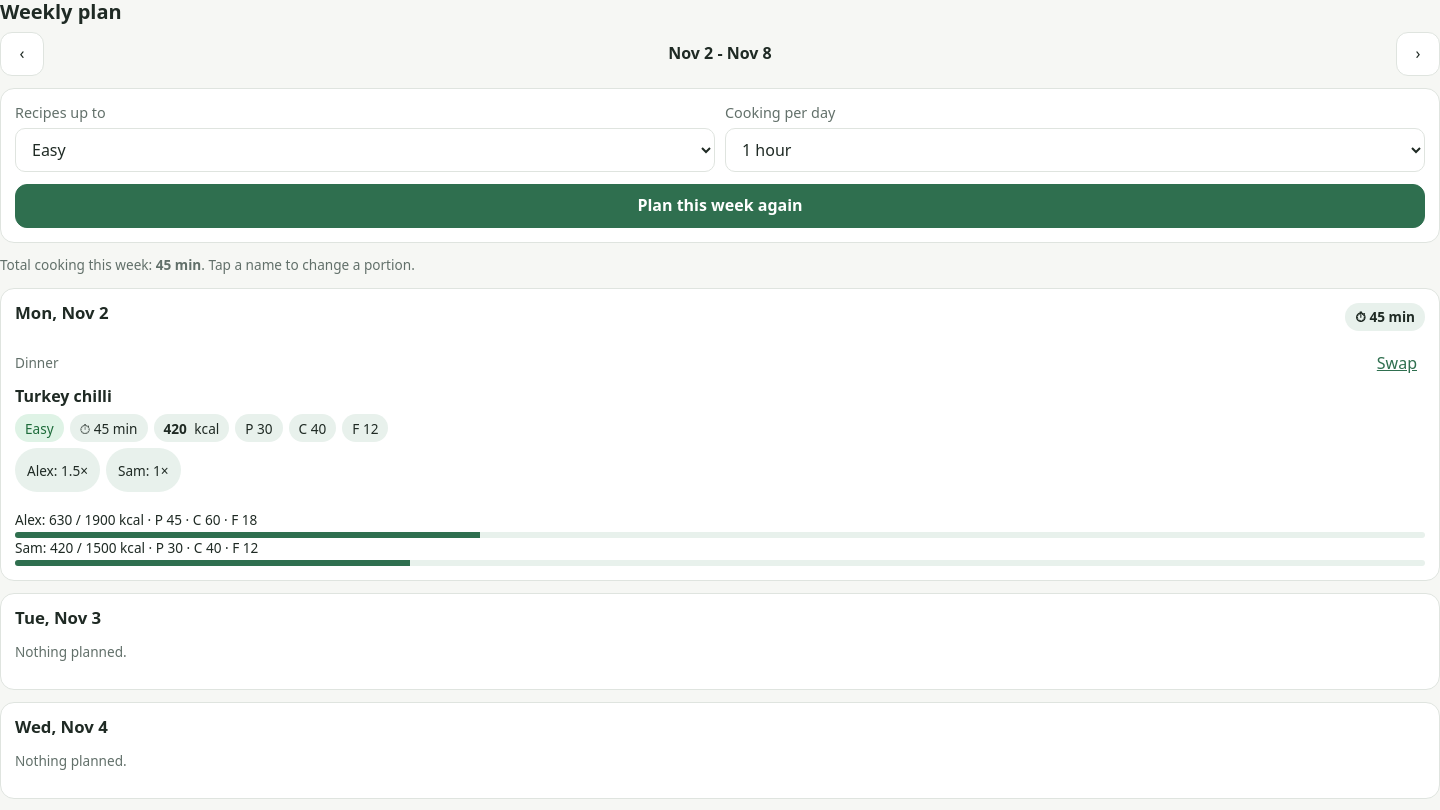
Test case: Plan › changes a portion through the sheet
The width and height of the screenshot is (1440, 810).
Click the button with aria-label "Alex: 1.5 servings" at (58, 470), box [15,448,100,492]
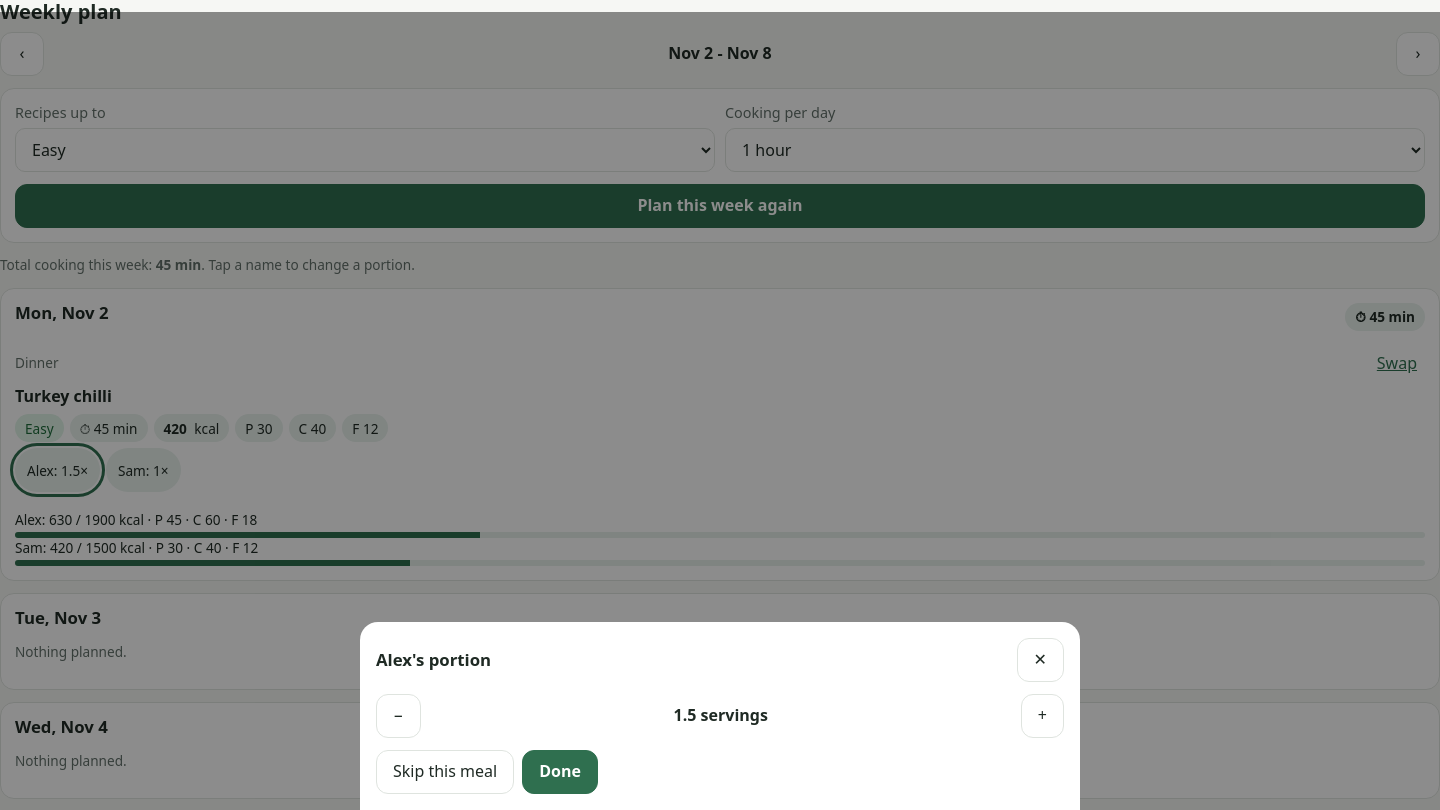
Click the button named "Bigger portion" at (1042, 716), box [1021,694,1064,738]
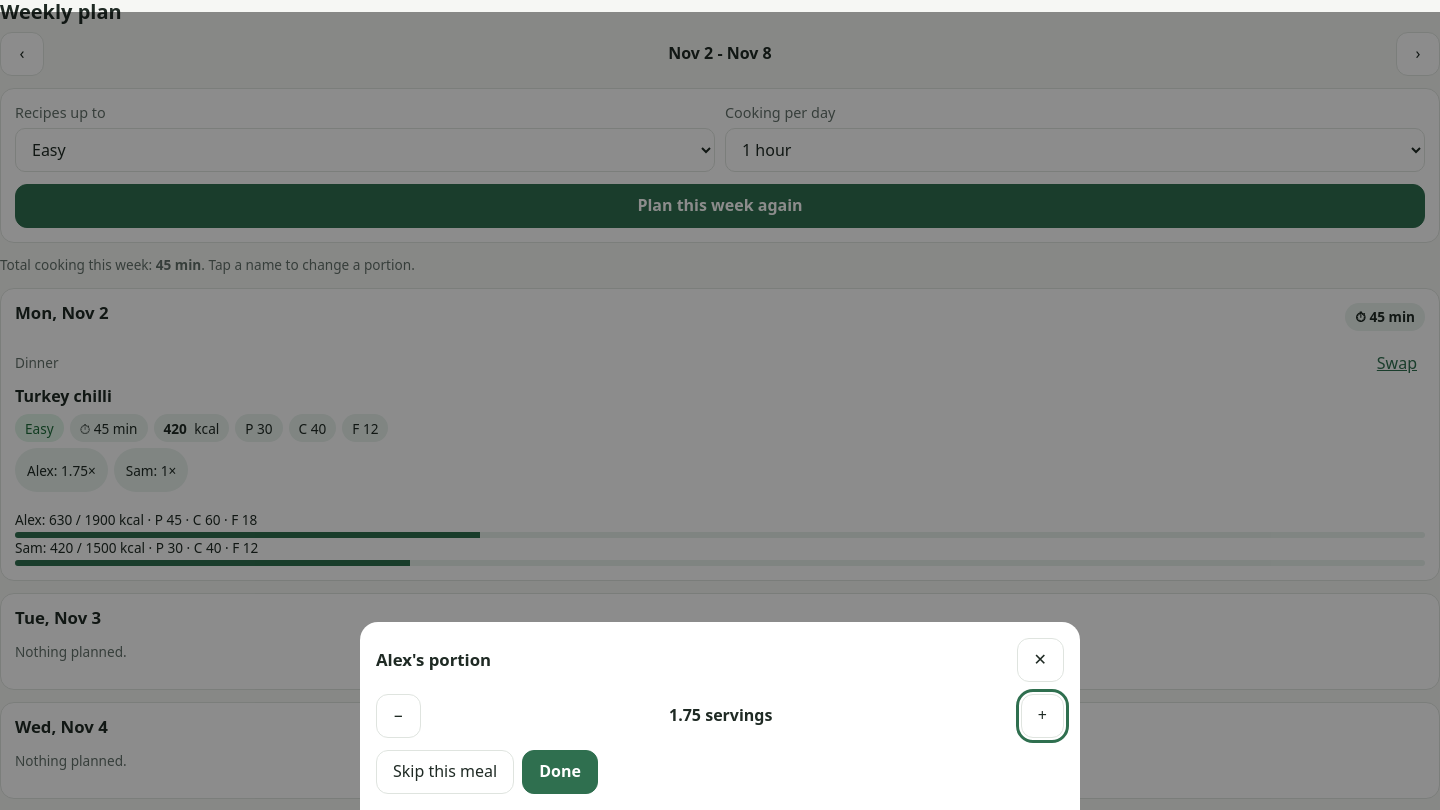
Check: the text "1.75 servings" is shown, box [669,704,772,728]
